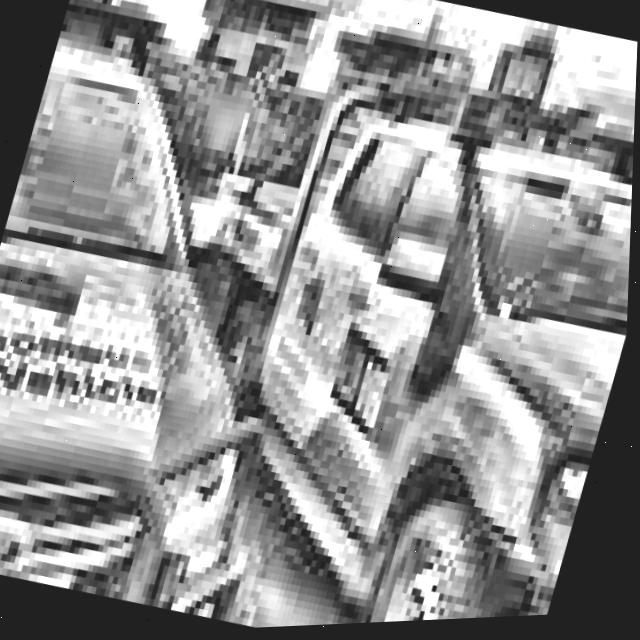light_vehicle: (102, 0, 640, 636), (0, 0, 404, 634)
